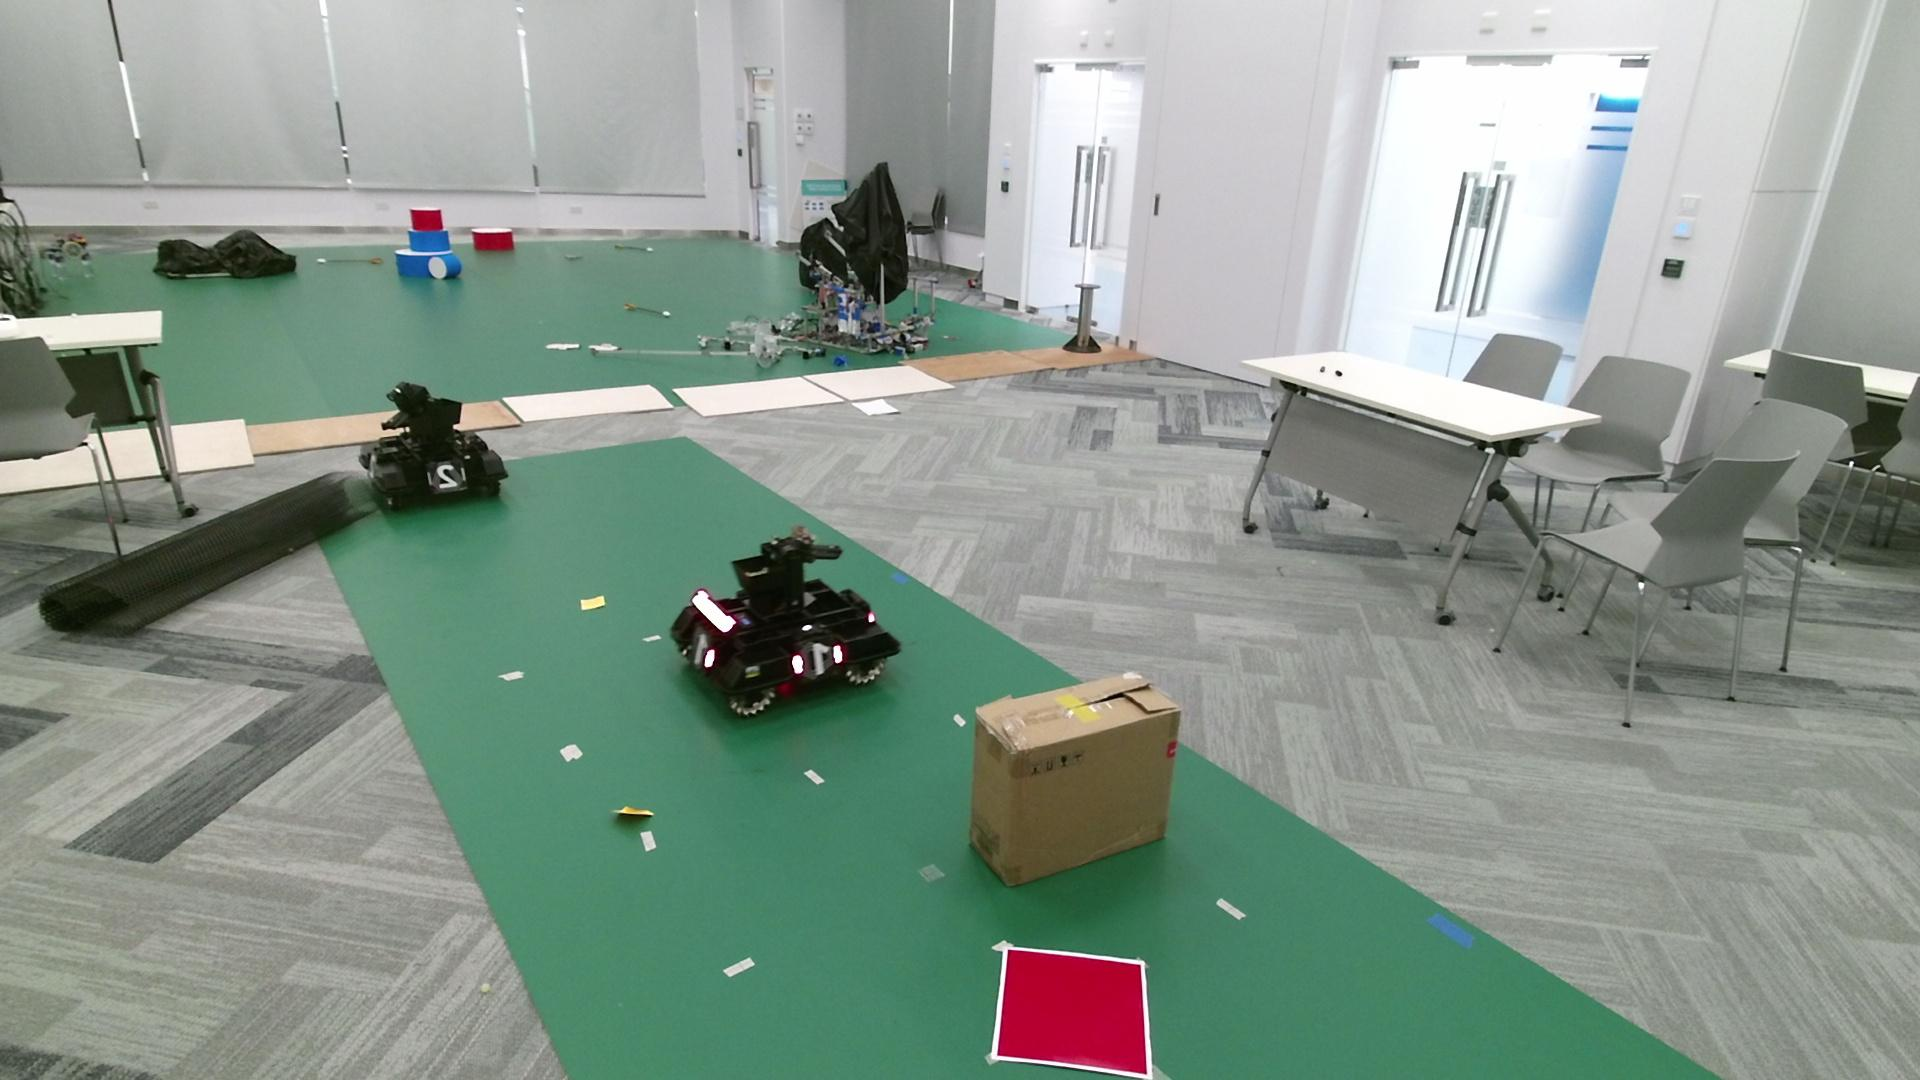robot: (671, 535, 902, 717), (357, 378, 510, 509)
